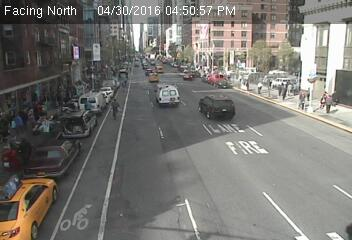neg: (60, 42, 91, 83), (142, 54, 170, 92), (39, 146, 66, 182), (149, 152, 176, 188), (15, 61, 41, 95), (177, 40, 201, 71), (222, 136, 245, 167), (297, 107, 318, 137), (65, 110, 86, 138), (199, 104, 220, 132), (214, 36, 235, 63), (94, 189, 115, 216), (104, 51, 124, 77), (275, 161, 294, 186), (236, 188, 253, 210), (280, 201, 295, 221), (149, 121, 161, 138)
pos: (16, 137, 37, 164), (293, 90, 307, 108), (108, 98, 121, 116), (325, 92, 337, 107), (254, 79, 264, 92)
